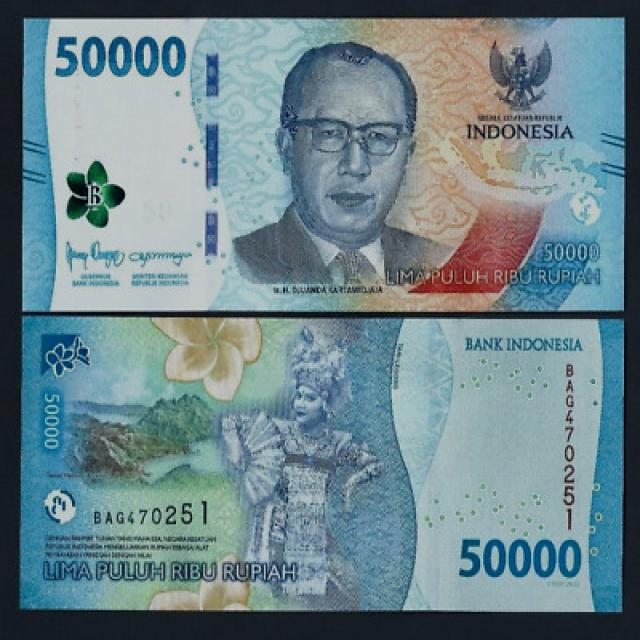lima puluh ribu rupiah: (22, 18, 626, 314), (21, 323, 626, 610)
